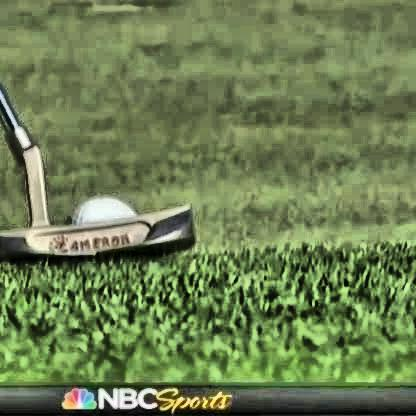golfball: (65, 208, 133, 239)
